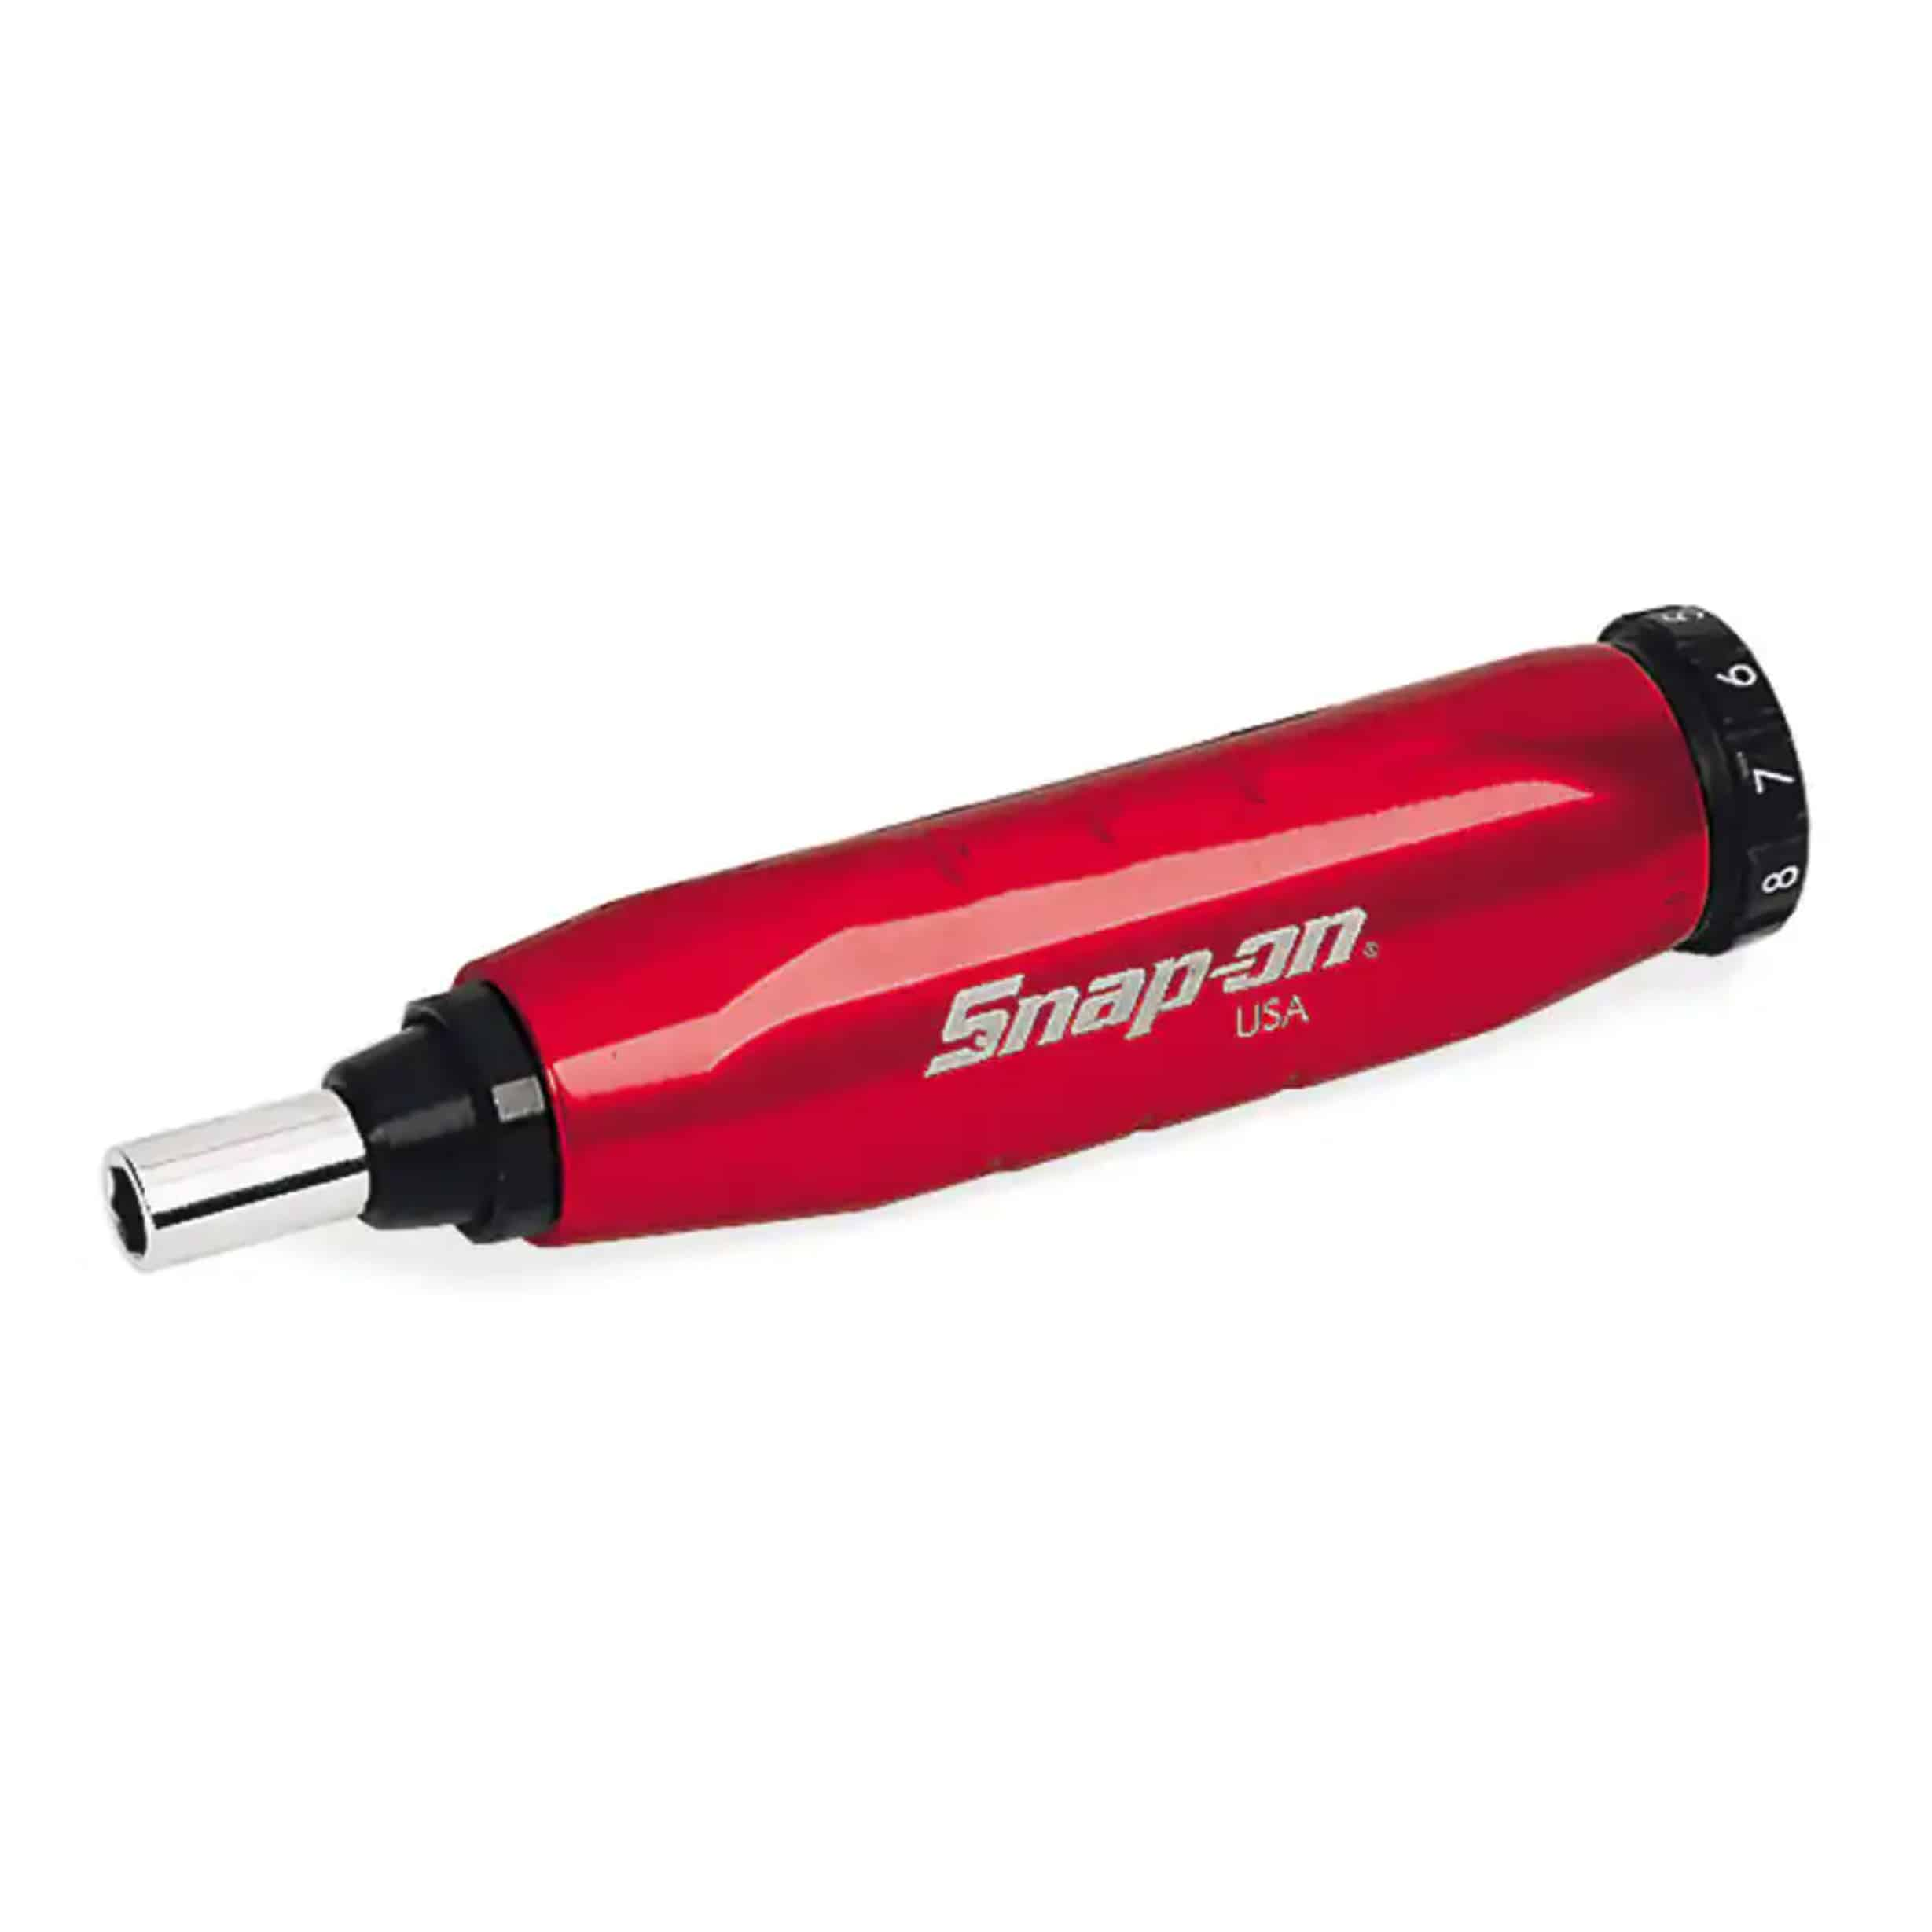screwdriver: (99, 563, 1817, 1284)
